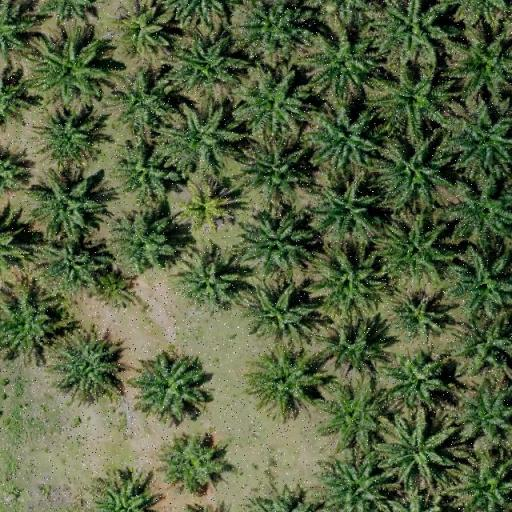Ganoderma: (182, 186, 229, 228)
